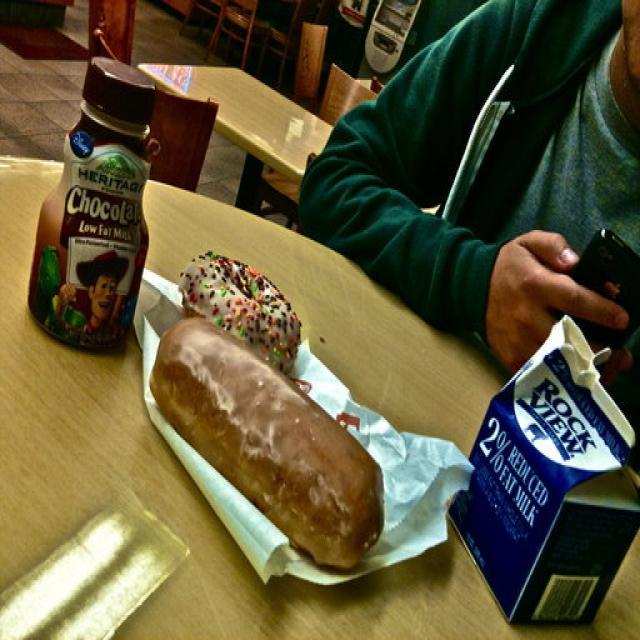Donuts: (169, 234, 385, 579)
